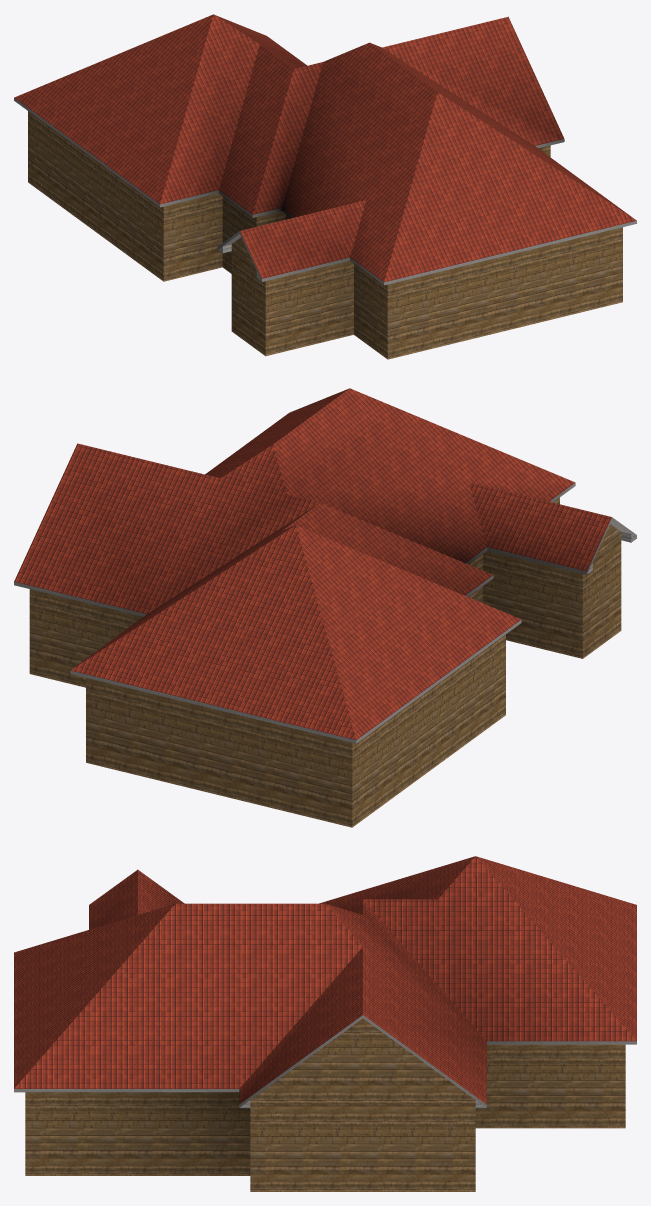
The model's file is house_02.glb.
3 renders of one model, top to bottom at view 1: azimuth 30°, elevation 25°; view 2: azimuth 150°, elevation 25°; view 3: azimuth 270°, elevation 25°, orthographic. The views are drawn at different scales.
Visible parts, largest first — view 1: Export; view 2: Export; view 3: Export.
Part boxes in pixels (x1,y1,x2,y2): Export: (14,14,636,359); Export: (14,388,636,827); Export: (14,856,636,1191).
Bounding box in the file's own units: 12.6 × 6.14 × 16.6.
Materials: 3 (3 with a texture image).
